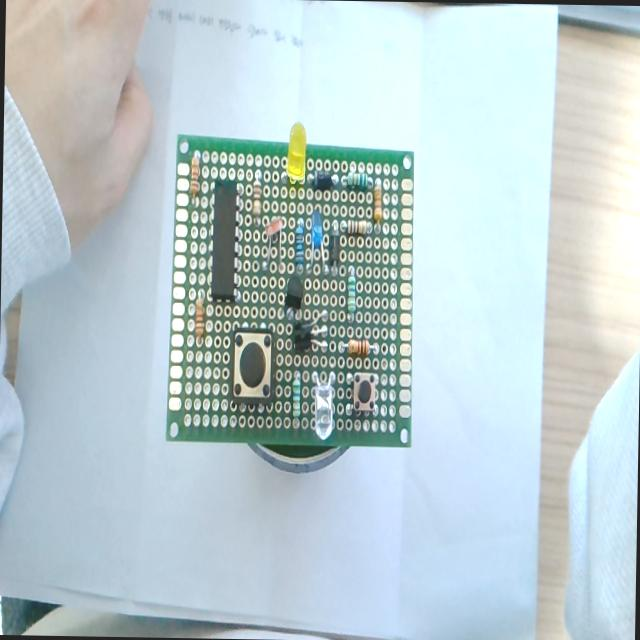IC: (206, 173, 241, 311)
cds: (262, 214, 288, 268)
diode: (306, 165, 342, 196), (330, 208, 340, 279)
led: (306, 366, 341, 443), (284, 118, 308, 198), (308, 204, 328, 282)
resistor: (190, 282, 210, 361), (188, 141, 204, 217), (339, 210, 373, 244), (250, 166, 267, 229), (338, 168, 375, 195), (346, 262, 361, 328), (339, 334, 380, 358), (373, 172, 388, 234), (290, 366, 304, 429), (294, 215, 308, 269)
switch: (228, 318, 276, 417), (344, 366, 380, 424)
transistor: (294, 317, 334, 355), (282, 270, 303, 322)
